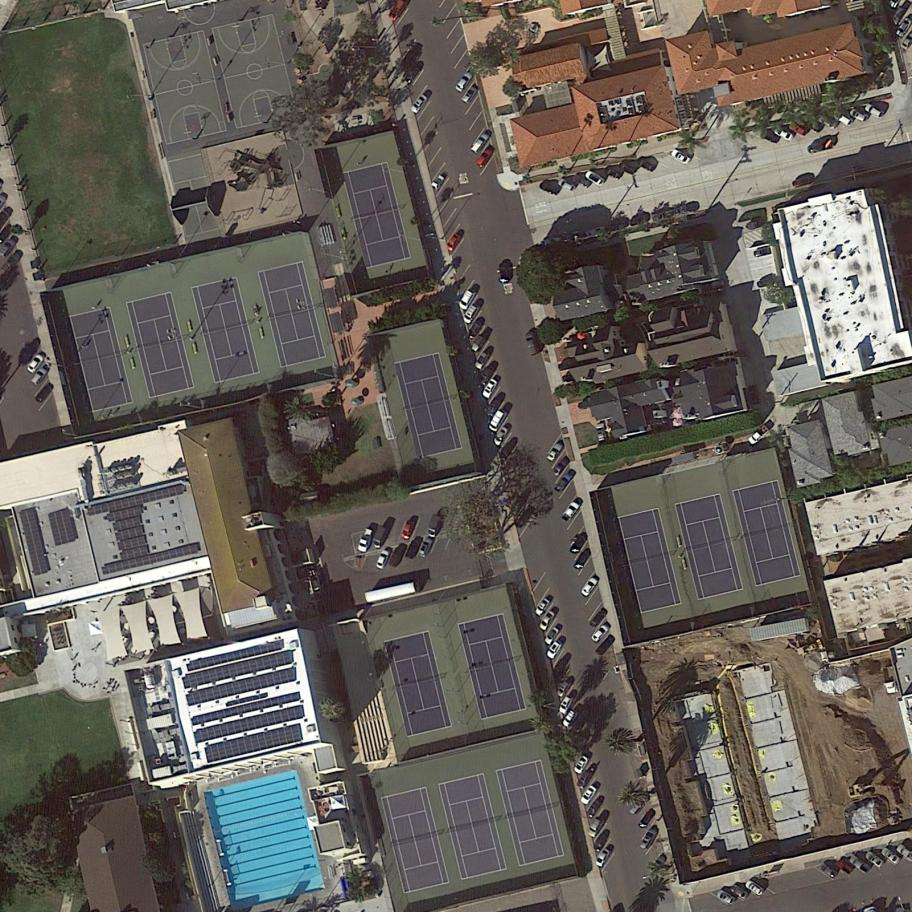small-vehicle: (594, 634, 619, 659), (34, 380, 57, 406), (746, 424, 771, 447), (356, 526, 376, 554), (806, 137, 837, 155), (461, 301, 483, 326), (469, 131, 491, 156), (496, 439, 518, 464), (572, 548, 594, 573), (488, 408, 509, 434), (25, 352, 47, 376), (800, 114, 824, 136), (567, 533, 589, 557), (455, 69, 476, 94), (476, 363, 497, 388), (469, 329, 490, 354), (831, 108, 856, 129), (755, 126, 781, 146), (589, 622, 611, 645), (636, 808, 658, 831), (560, 500, 581, 524), (586, 815, 607, 839), (409, 92, 430, 116), (475, 146, 496, 170), (554, 676, 575, 700), (575, 768, 596, 791), (639, 827, 659, 851), (880, 846, 904, 866), (848, 855, 872, 875), (371, 524, 389, 550), (553, 472, 574, 494), (588, 608, 609, 630), (580, 575, 600, 598), (484, 395, 504, 418), (773, 125, 796, 145), (388, 544, 406, 569), (579, 784, 599, 806), (729, 882, 751, 902), (833, 857, 855, 877), (591, 832, 611, 854), (584, 798, 604, 820), (538, 609, 557, 632), (584, 169, 607, 188), (458, 287, 476, 311), (816, 113, 840, 131), (792, 173, 817, 190), (29, 366, 49, 387), (492, 425, 511, 447), (557, 693, 576, 715), (545, 638, 564, 660), (473, 349, 492, 371), (444, 231, 463, 253), (429, 172, 448, 194), (864, 850, 886, 869), (539, 180, 562, 198), (570, 173, 593, 191), (524, 331, 540, 356), (427, 515, 443, 540), (545, 442, 564, 463), (561, 708, 580, 729), (534, 597, 553, 618), (481, 378, 500, 399), (819, 862, 840, 881), (744, 879, 766, 897), (602, 164, 624, 182), (864, 102, 886, 120), (401, 519, 418, 542), (405, 538, 422, 561), (542, 626, 561, 646), (567, 719, 586, 739), (573, 754, 591, 775), (595, 847, 613, 868), (716, 888, 737, 906), (671, 148, 692, 166), (788, 120, 809, 138), (375, 549, 392, 571), (417, 537, 434, 559), (466, 319, 483, 341), (848, 106, 870, 123), (558, 177, 579, 194), (462, 85, 479, 105), (635, 156, 655, 173), (617, 160, 637, 176), (552, 459, 569, 477), (499, 263, 511, 285), (753, 245, 773, 258)
